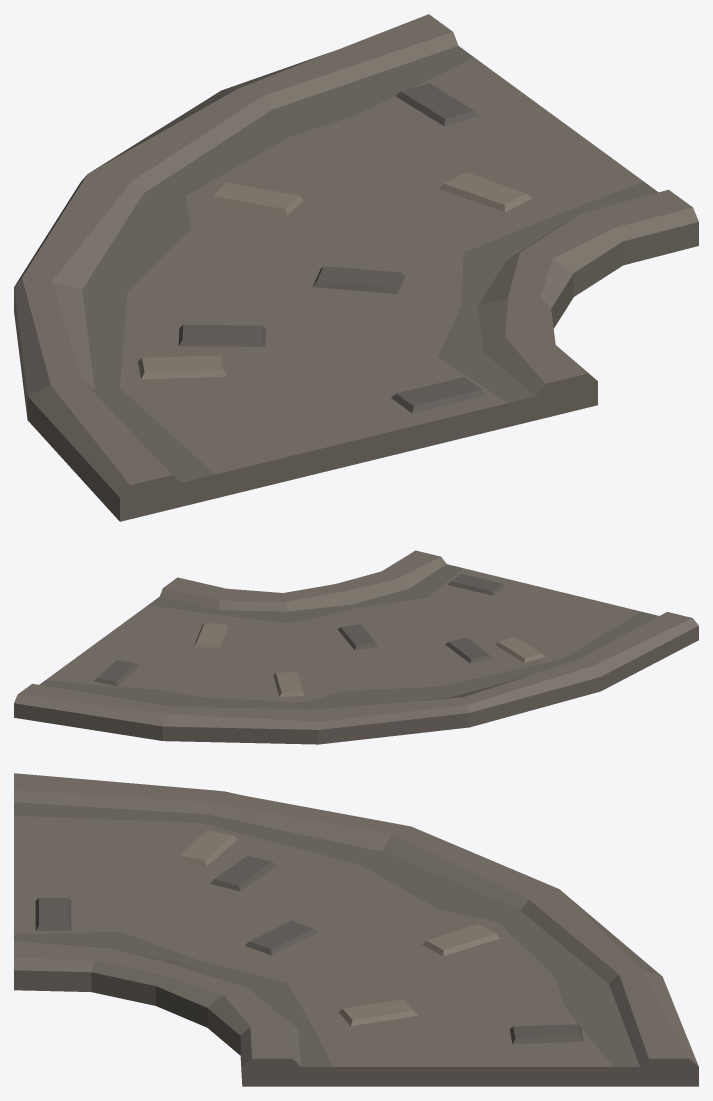
The model's file is SM_Env_Path_Corner_01.fbx.
3 renders of one model, top to bottom at view 1: azimuth 30°, elevation 25°; view 2: azimuth 150°, elevation 25°; view 3: azimuth 270°, elevation 25°, orthographic. The views are drawn at different scales.
Parts seen in each view (by area): view 1: SM_Env_Path_Corner_01; view 2: SM_Env_Path_Corner_01; view 3: SM_Env_Path_Corner_01.
Part boxes in pixels (x1=…): SM_Env_Path_Corner_01: x1=14, y1=14, x2=698, y2=521; SM_Env_Path_Corner_01: x1=14, y1=550, x2=698, y2=744; SM_Env_Path_Corner_01: x1=14, y1=773, x2=698, y2=1086.
Size of the model in its own units: 375 by 17.05 by 375.
